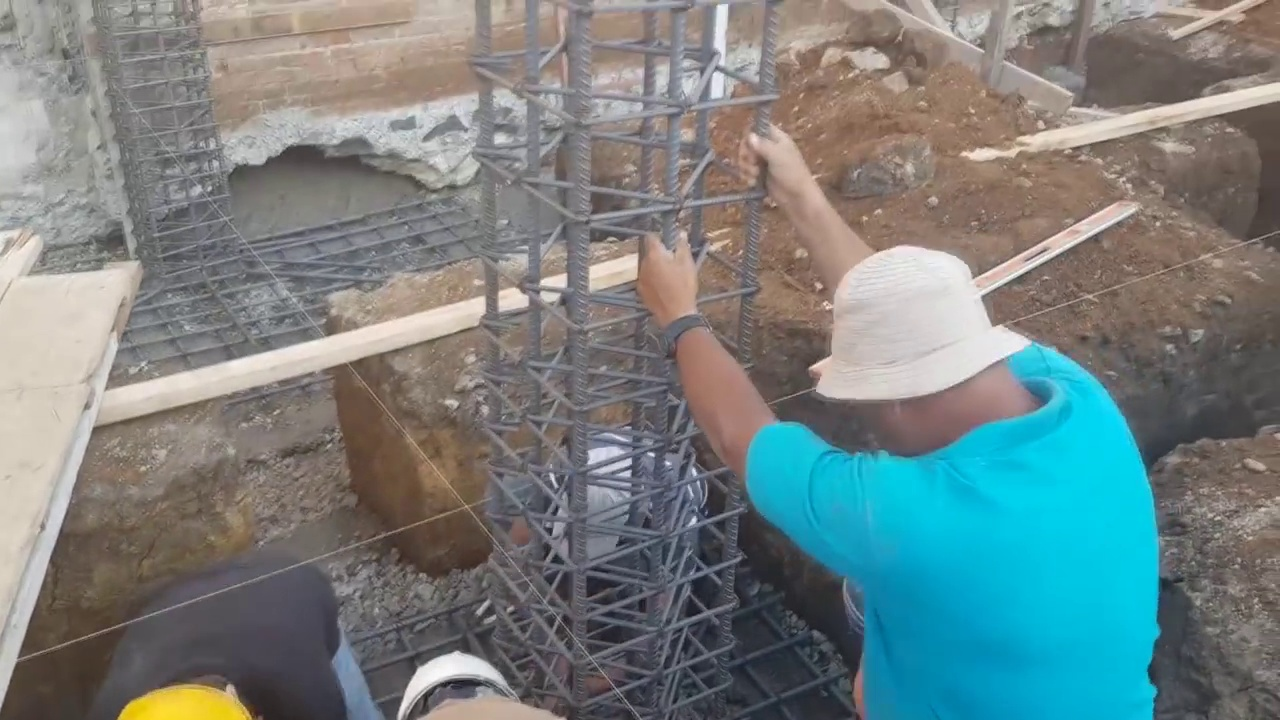helmet: (127, 674, 259, 719), (397, 661, 508, 711)
helmet-off: (810, 242, 1058, 461), (548, 444, 643, 562)
helmet-on: (394, 647, 554, 717), (112, 658, 259, 718)
person: (641, 121, 1166, 719), (475, 432, 710, 652), (81, 562, 385, 719)
